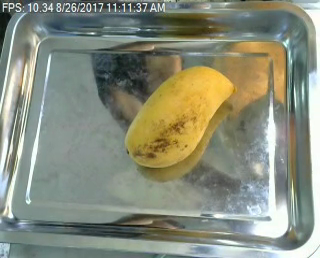Mango: (126, 63, 237, 172)
